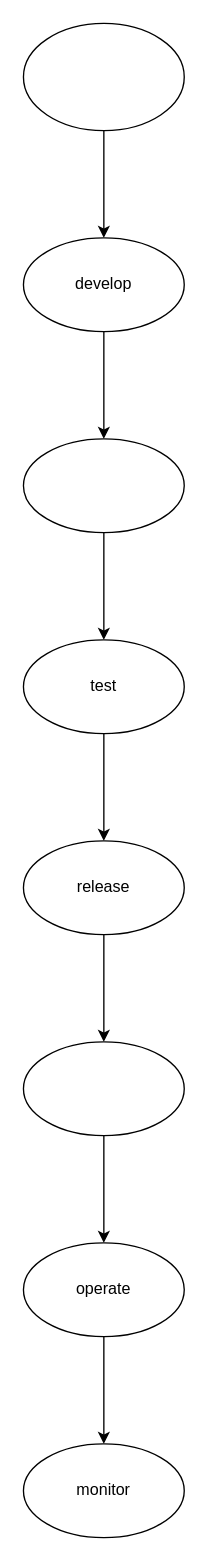
This 208x1561 diagram has some shape labels left out. The centre of each missing label's shape, as x and y in pixels:
built: the point at 103,485
deploy: the point at 103,1088
plan: the point at 103,76
